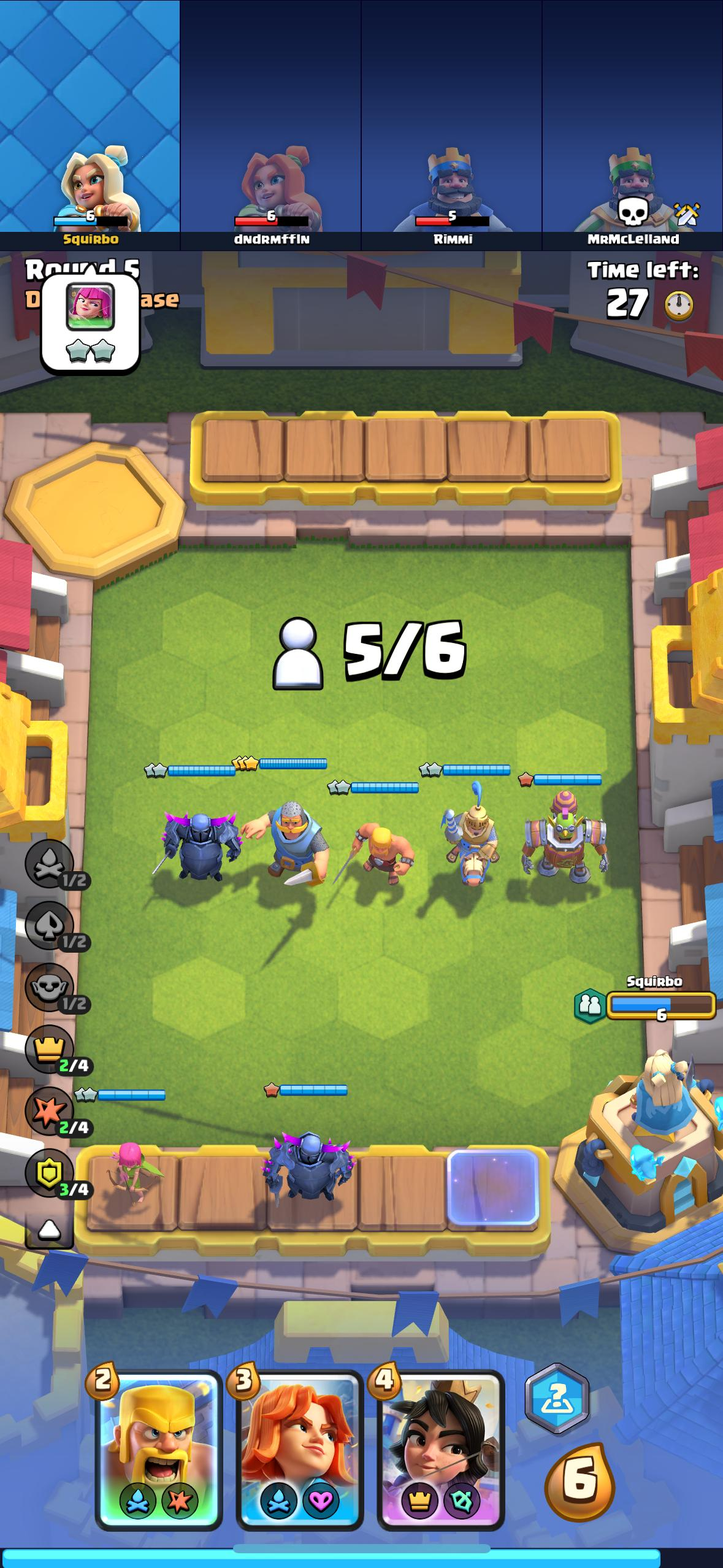archer: (101, 1139, 167, 1208)
barbarian: (342, 812, 416, 889)
hand-barbarian: (97, 1372, 224, 1529)
hand-princess: (378, 1374, 504, 1530)
hand-valkyrie: (236, 1372, 363, 1523)
knight: (248, 795, 331, 894)
machine: (516, 789, 611, 893)
pekka: (263, 1117, 357, 1210), (162, 807, 241, 889)
prince: (438, 785, 504, 887)
